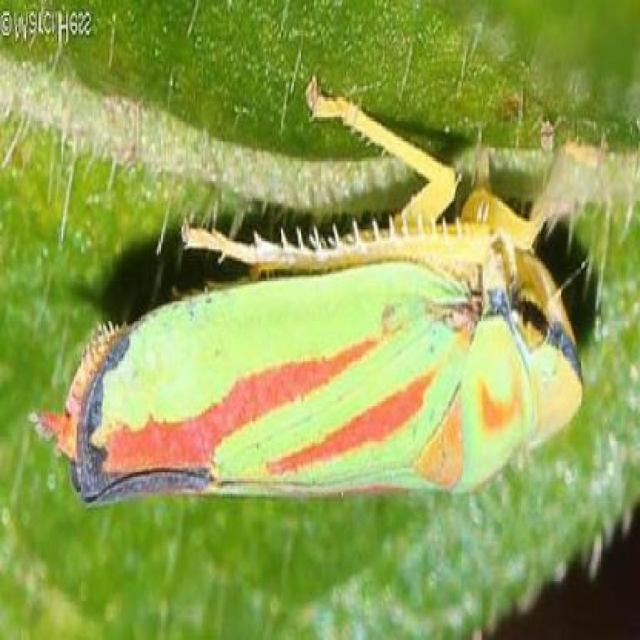green-leafhopper: (69, 226, 577, 494)
